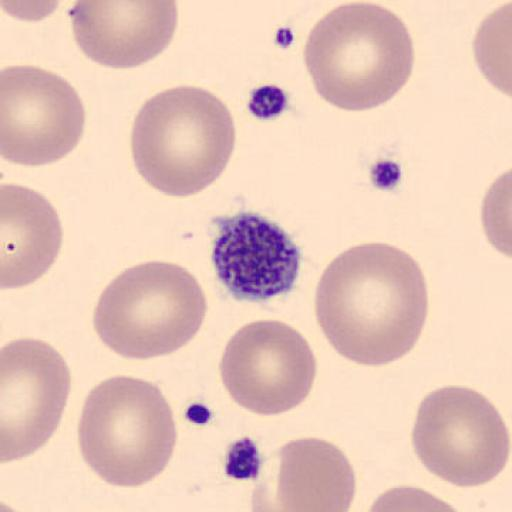Platelet: (207, 207, 306, 305), (220, 433, 266, 485)
RBC: (313, 240, 429, 370), (302, 0, 416, 113), (128, 83, 238, 199), (91, 259, 209, 362), (74, 373, 178, 489), (410, 384, 512, 490), (217, 318, 318, 418), (1, 62, 87, 168), (2, 335, 72, 463), (68, 1, 181, 70), (266, 434, 358, 512), (1, 182, 64, 291), (472, 1, 512, 102), (479, 165, 512, 262), (365, 482, 468, 512), (1, 0, 67, 23)
